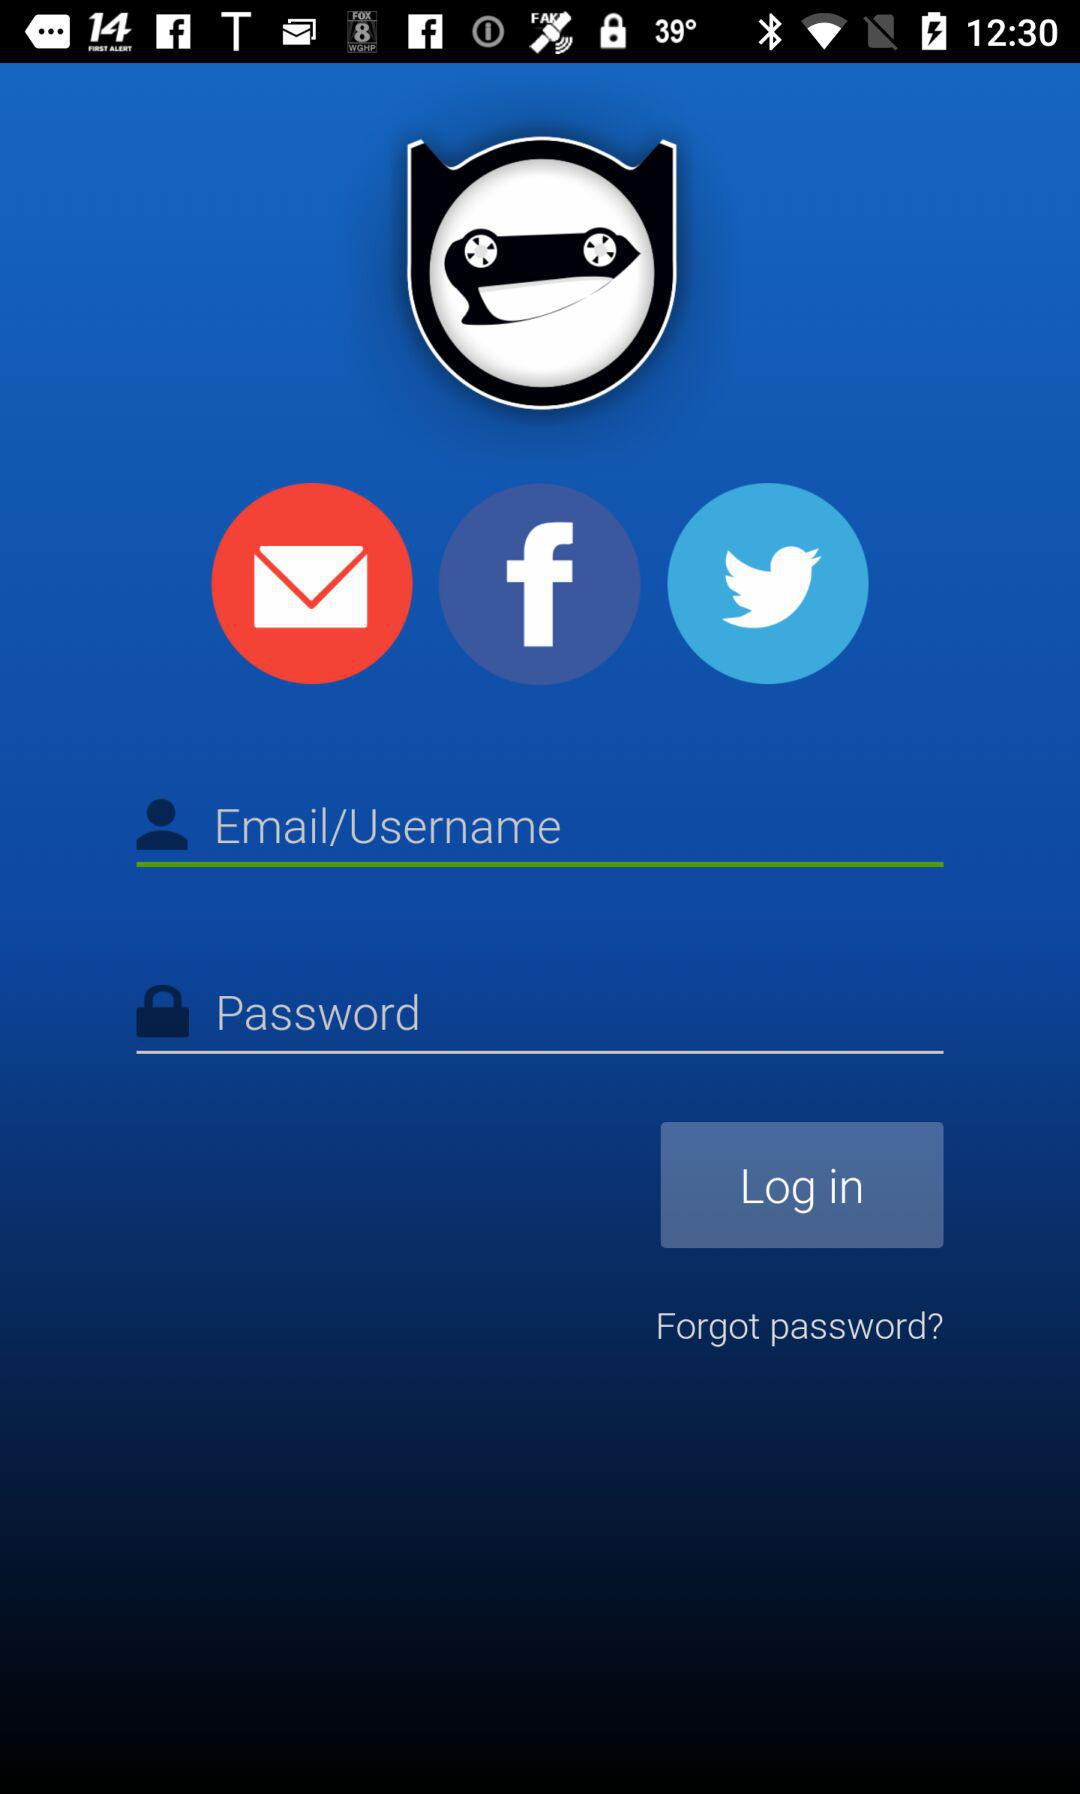EditText: (135, 798, 945, 869), (136, 985, 945, 1055)
Icon: (438, 483, 642, 687), (667, 482, 870, 686), (211, 482, 414, 686), (137, 985, 191, 1039), (136, 798, 190, 852)
Image: (406, 135, 679, 413)
Text: (218, 807, 562, 847), (657, 1310, 944, 1349), (219, 993, 419, 1032)
TextButton: (661, 1123, 945, 1249)
UpperTaskBar: (1, 1, 1080, 64)
